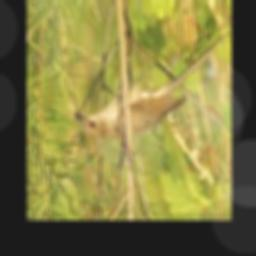Cuckoo: (74, 35, 224, 138)
